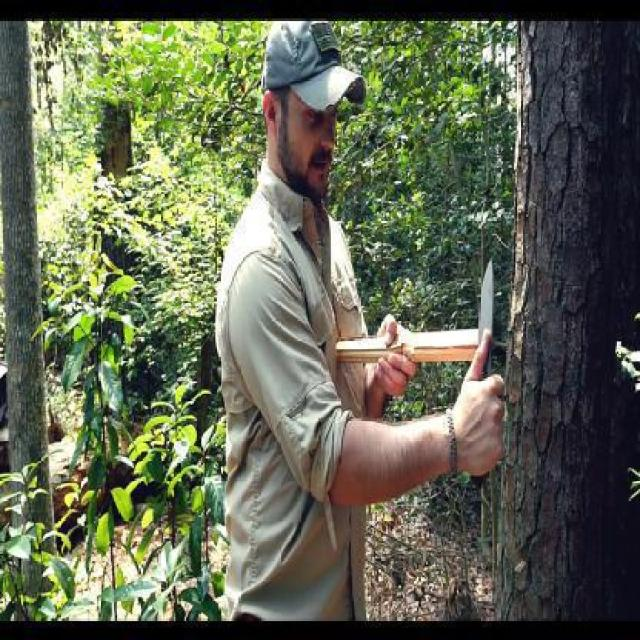knife: (458, 248, 511, 483)
